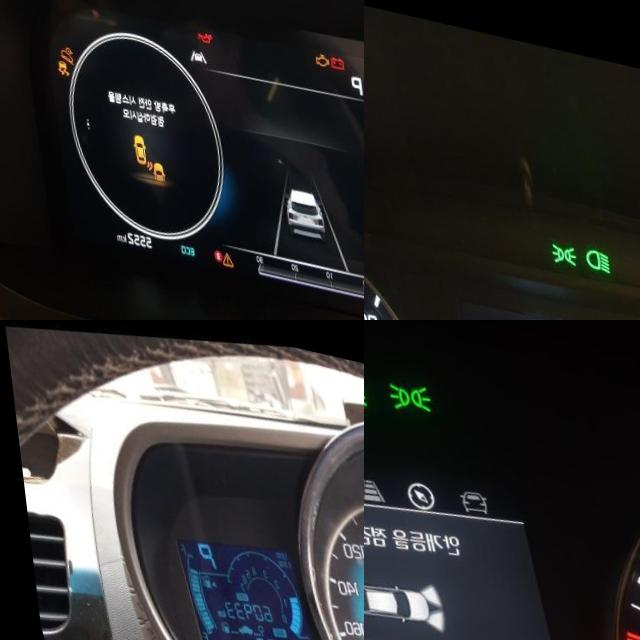Central Warning lamp: (211, 234, 224, 251)
LaneCenteringOff: (184, 31, 202, 47)
Low beam: (579, 228, 607, 257)
SideLamp: (383, 363, 431, 403), (546, 224, 573, 250)
